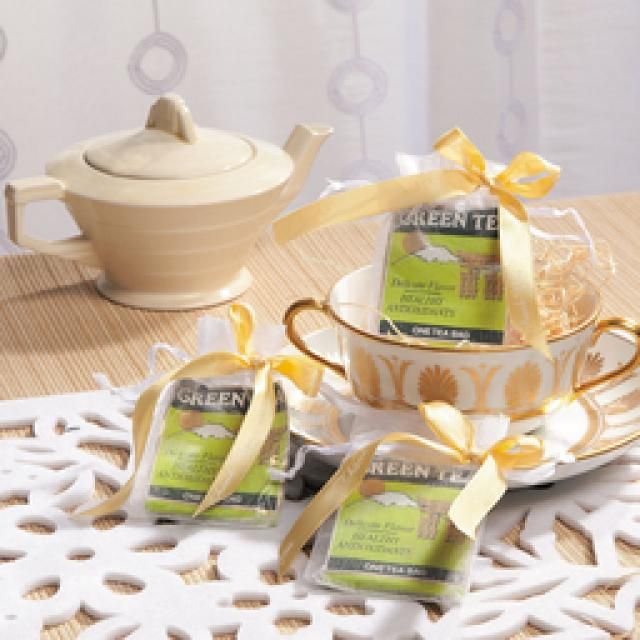tea-bags: (327, 454, 481, 600), (380, 208, 502, 344), (144, 382, 255, 514), (204, 384, 293, 521)
